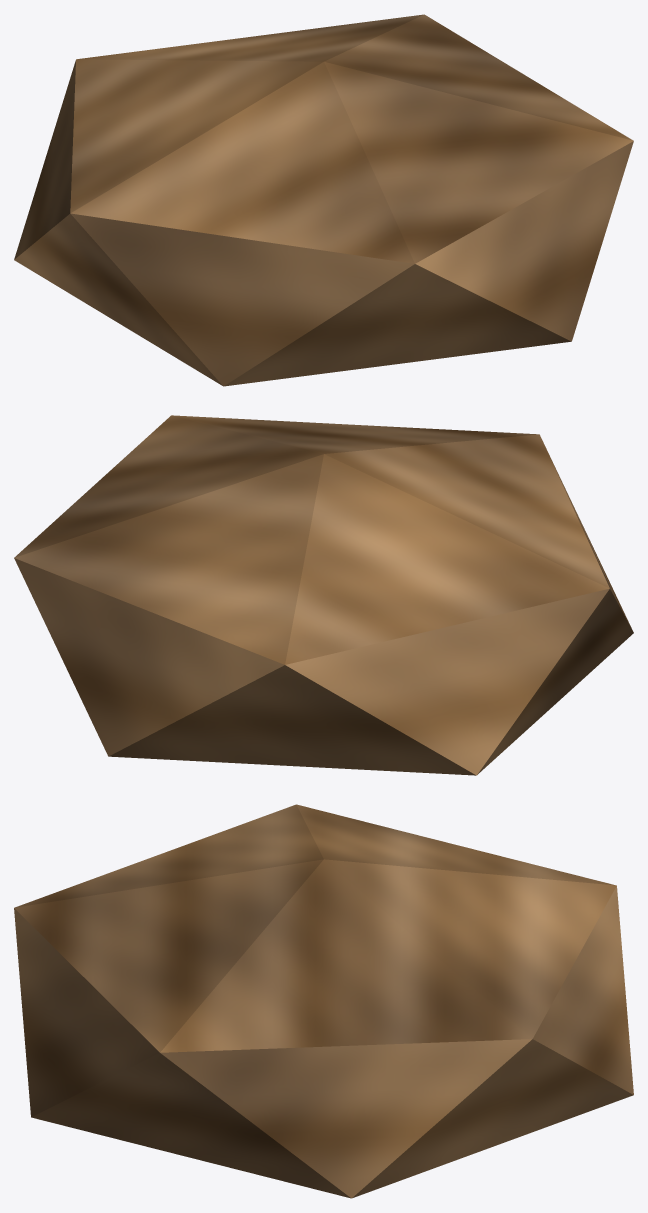
File: 2008_sandstone_talus_03.dae
The picture shows the model from 3 angles, top to bottom: view 1: azimuth 30°, elevation 25°; view 2: azimuth 150°, elevation 25°; view 3: azimuth 270°, elevation 25°; orthographic projection. The views are drawn at different scales.
Visible parts, largest first — view 1: Node; view 2: Node; view 3: Node.
Boxes of the visible parts, x1,y1,x2,y2 form: Node: (14, 14, 633, 386); Node: (14, 415, 633, 775); Node: (14, 804, 633, 1198).
Bounding box in the file's own units: 0.8591 × 0.843 × 0.4265.
Materials: 1 (1 with a texture image).
